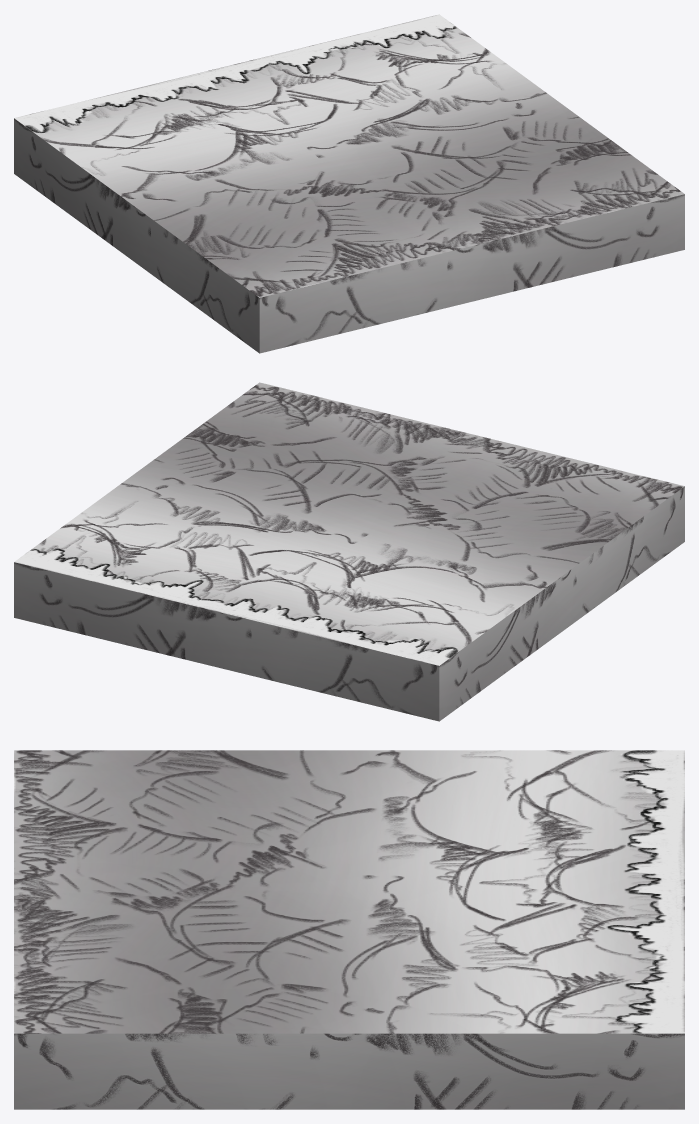
The model's file is 16x16x2_Basic.fbx.
3 renders of one model, top to bottom at view 1: azimuth 30°, elevation 25°; view 2: azimuth 150°, elevation 25°; view 3: azimuth 270°, elevation 25°, orthographic. The views are drawn at different scales.
Visible parts, largest first — view 1: 16x16x2_Effect; view 2: 16x16x2_Effect; view 3: 16x16x2_Effect.
Boxes of the visible parts, box(x1,y1,x2,y2) form: 16x16x2_Effect: box(14, 14, 684, 353); 16x16x2_Effect: box(14, 382, 684, 721); 16x16x2_Effect: box(14, 750, 684, 1109).
Bounding box in the file's own units: 1616 × 202 × 1616.
